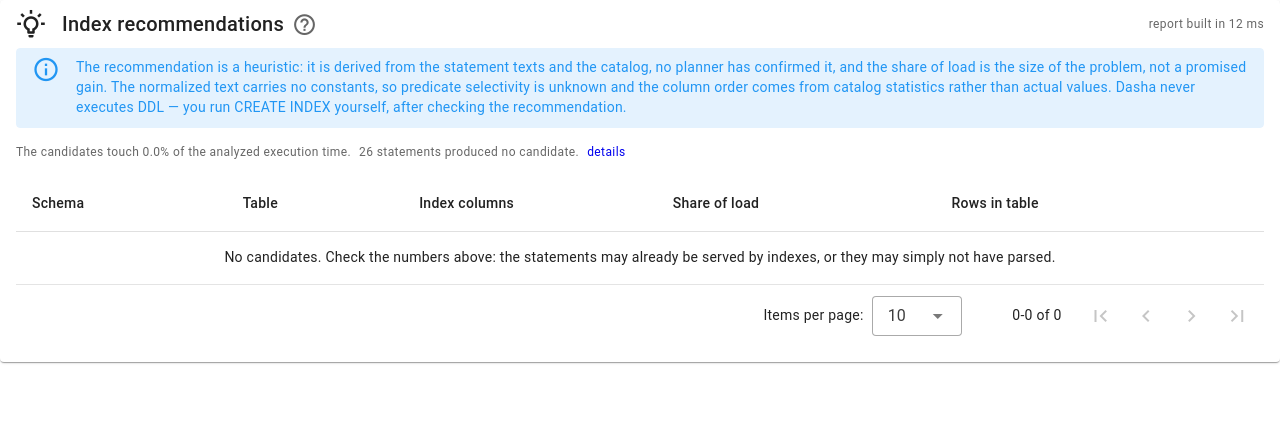
Test: IndexAdvisorSection › does not raise an alarm when the unread statements are only monitoring
The width and height of the screenshot is (1280, 445).
Click the link "details": (606, 152) [587,142,626,162]
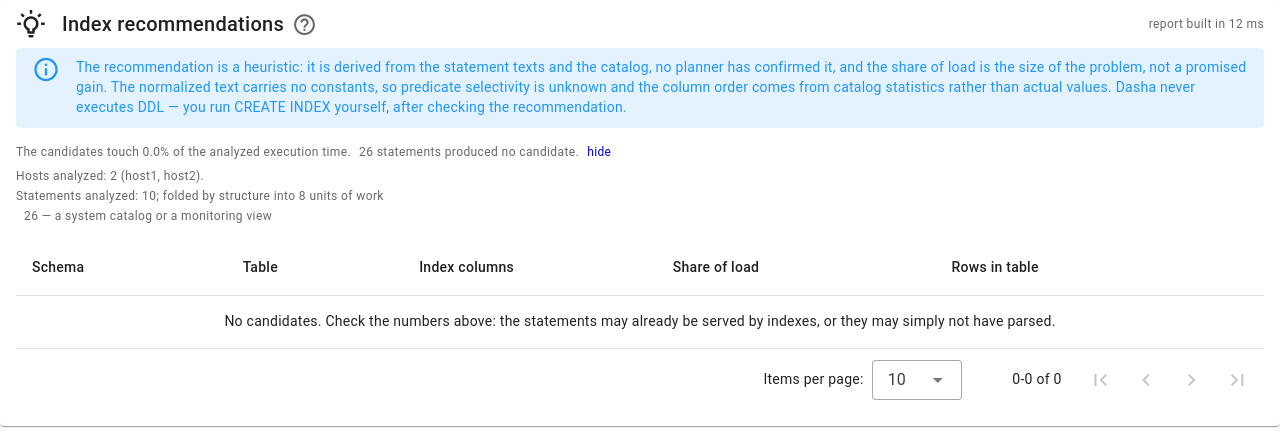
Expected: the text "a system catalog or a monitoring view" is shown, [24,209,272,223]
